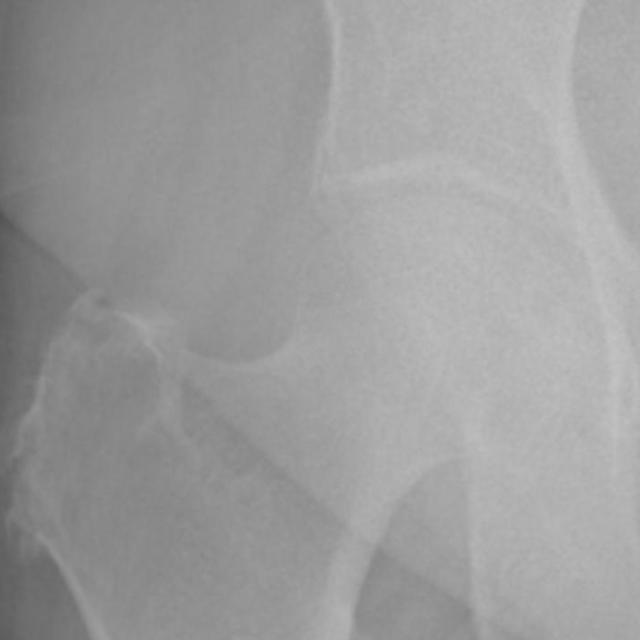Fitted_femural_head: (278, 197, 432, 278)
